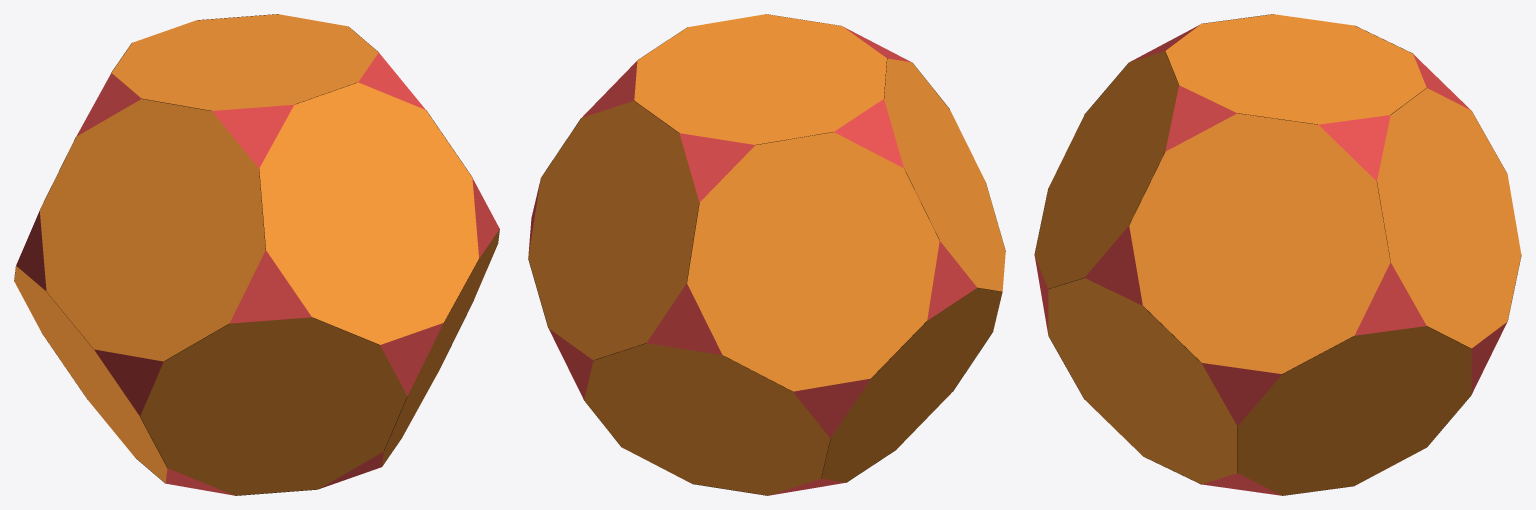
The model's file is dodecaedro.obj.
3 renders of one model, left to right at view 1: azimuth 30°, elevation 25°; view 2: azimuth 150°, elevation 25°; view 3: azimuth 270°, elevation 25°, orthographic. The views are drawn at different scales.
Parts seen in each view (by area): view 1: VIFS002, VIFS001, VILS001; view 2: VIFS002, VIFS001, VILS001; view 3: VIFS002, VIFS001, VILS001.
Part boxes in pixels (bbox=[...]): VIFS002: bbox=[14, 14, 499, 495]; VIFS001: bbox=[16, 53, 499, 495]; VILS001: bbox=[14, 14, 499, 495]; VIFS002: bbox=[528, 14, 1005, 495]; VIFS001: bbox=[528, 26, 977, 495]; VILS001: bbox=[528, 14, 1005, 495]; VIFS002: bbox=[1034, 14, 1521, 495]; VIFS001: bbox=[1034, 24, 1507, 495]; VILS001: bbox=[1034, 14, 1521, 495].
Bounding box in the file's own units: 2.02 × 1.79 × 2.03.
